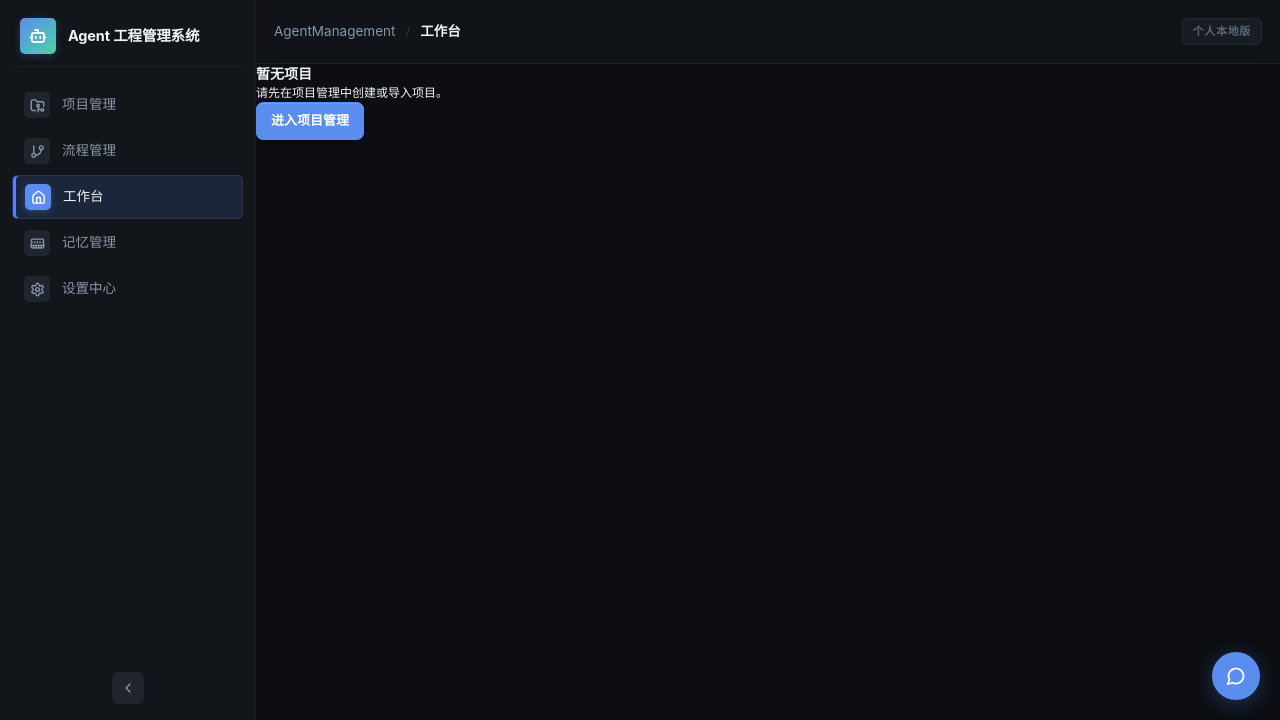
Scenario: Project onboarding overlays › renders existing project import as a three-step scan-detect-confirm flow
The image size is (1280, 720).
Click the button "项目管理".
click(128, 105)  # box [12,83,243,127]
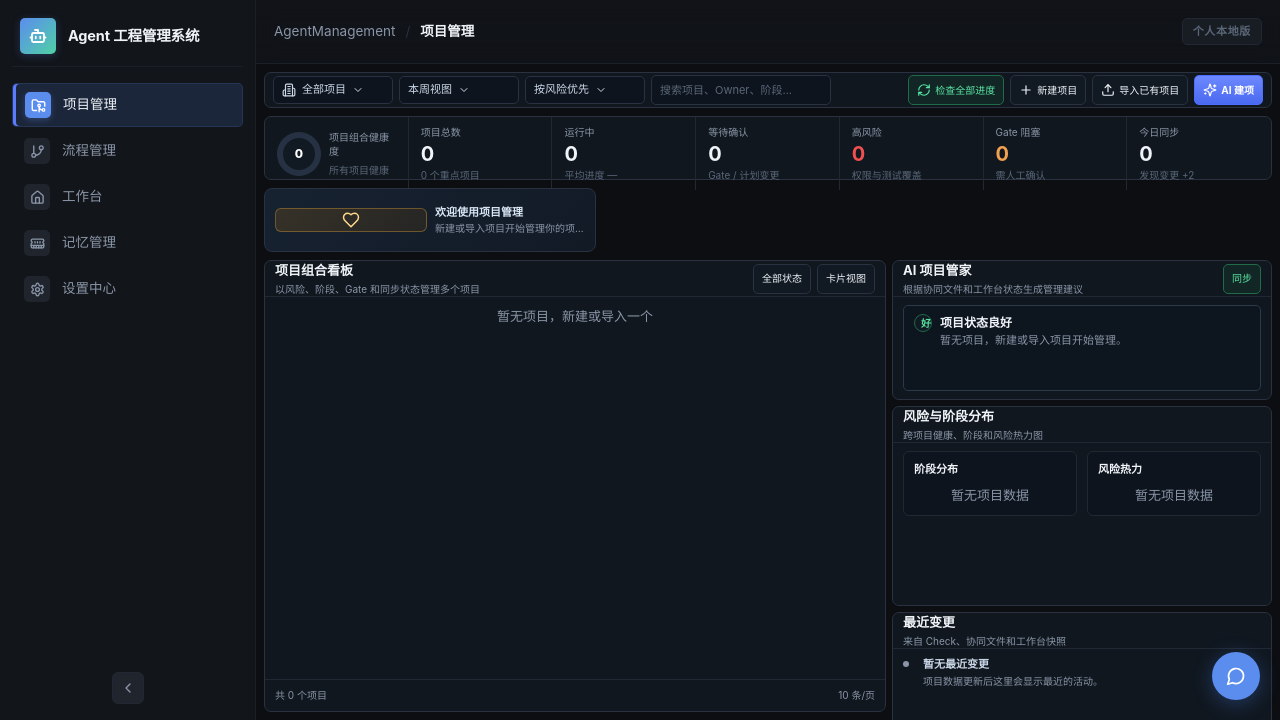
Click the button "导入已有项目".
click(1140, 90)  # box [1092,75,1188,105]
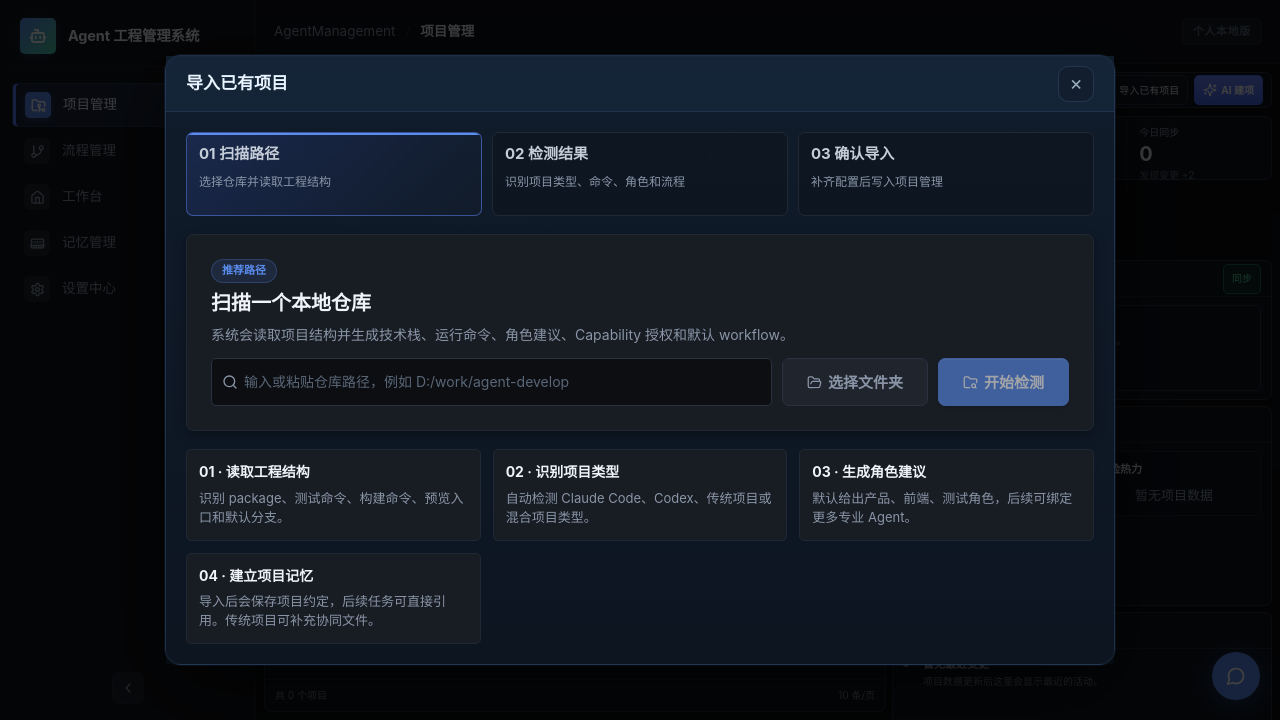
Expected: the text "01 扫描路径" is shown, [199,144,279,163]
Expected: the text "02 检测结果" is shown, [505,144,588,163]
Expected: the text "03 确认导入" is shown, [811,144,894,163]
